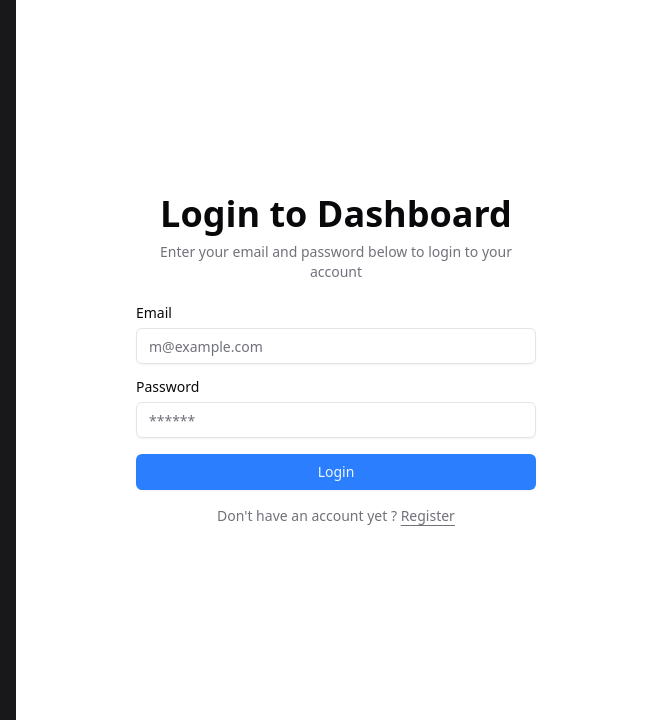
Test: Login Component › shows validation errors when submitting empty or invalid data
This screenshot has width=656, height=720.
Click the button "Login" at (336, 472), box [136,454,536,490]
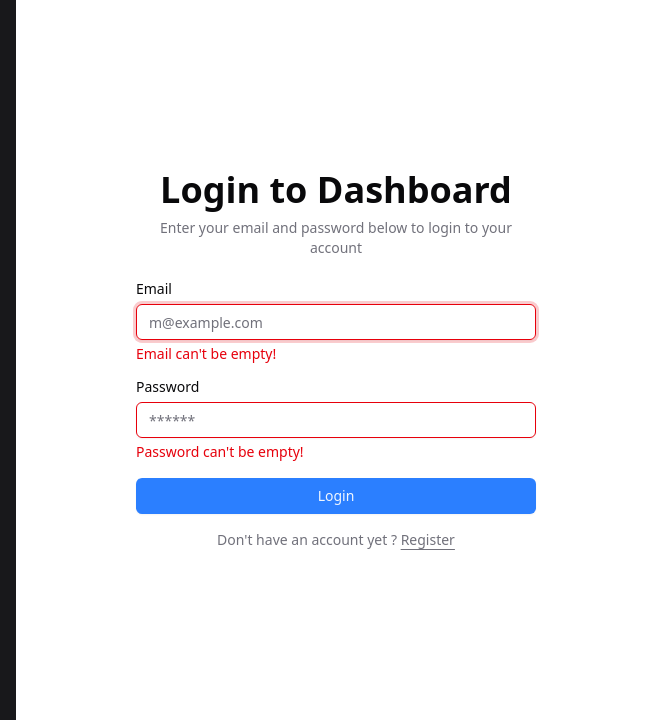
Expected: the text "Email can't be empty!" is shown, [136,344,276,363]
Expected: the text "Password can't be empty!" is shown, [136,442,304,461]
Type "invalidemail" into the field labelled "Email" at (336, 322), box [136,304,536,340]
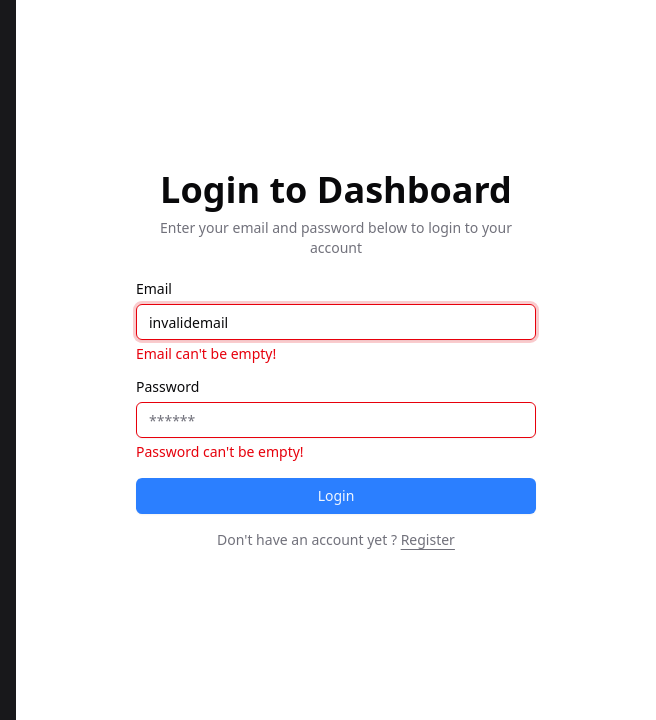
Type "somepassword" into the password field labelled "Password" at (336, 420), box [136,402,536,438]
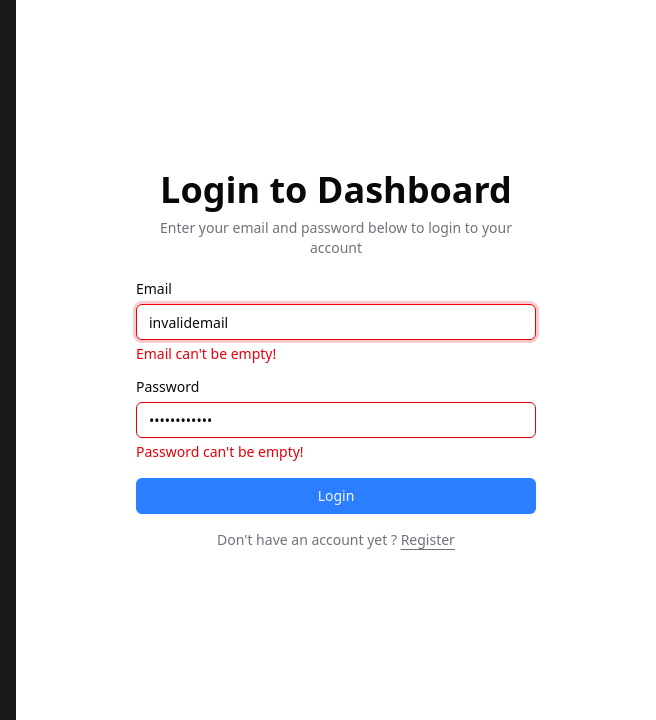
Click the button "Login" at (336, 496), box [136,478,536,514]
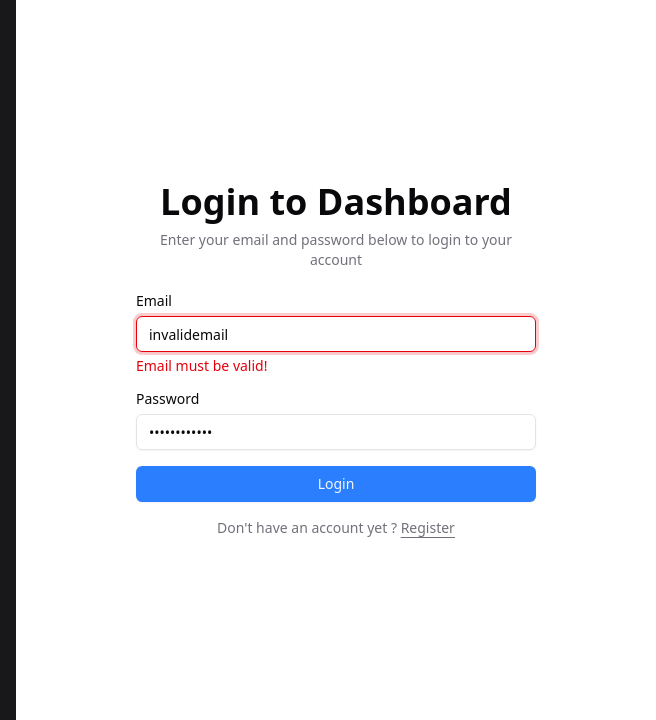
Expected: the text "Email must be valid!" is shown, [136,356,268,375]
